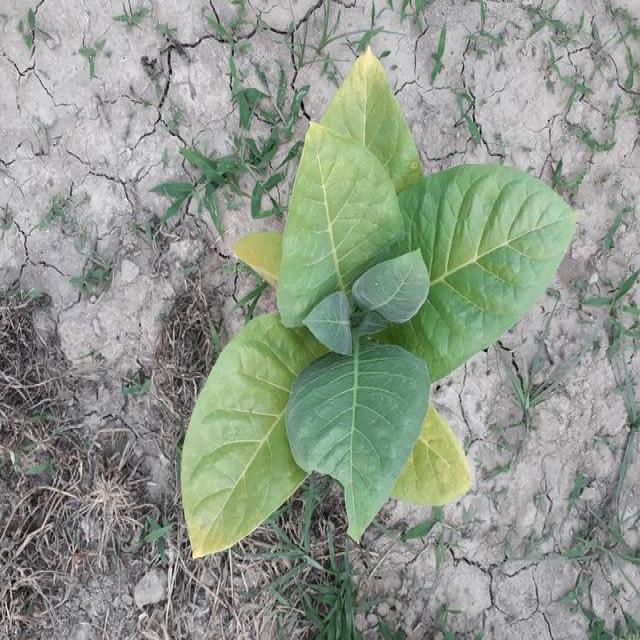crop: (182, 59, 572, 557)
